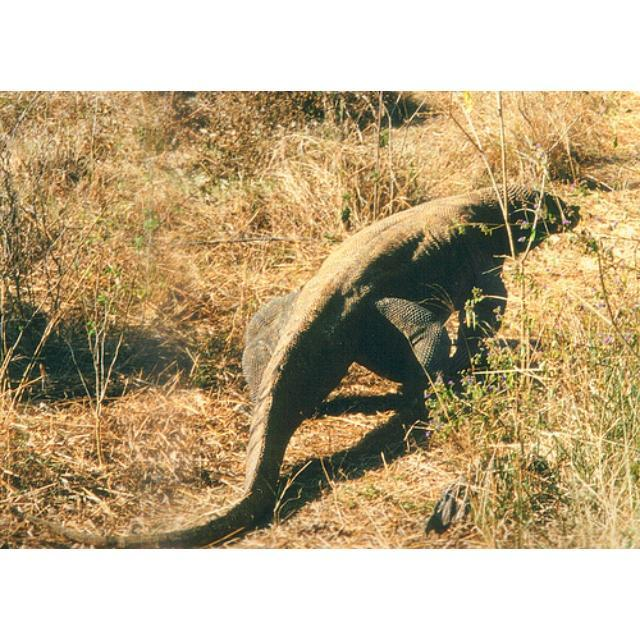KomodoDragon: (11, 182, 581, 546)
